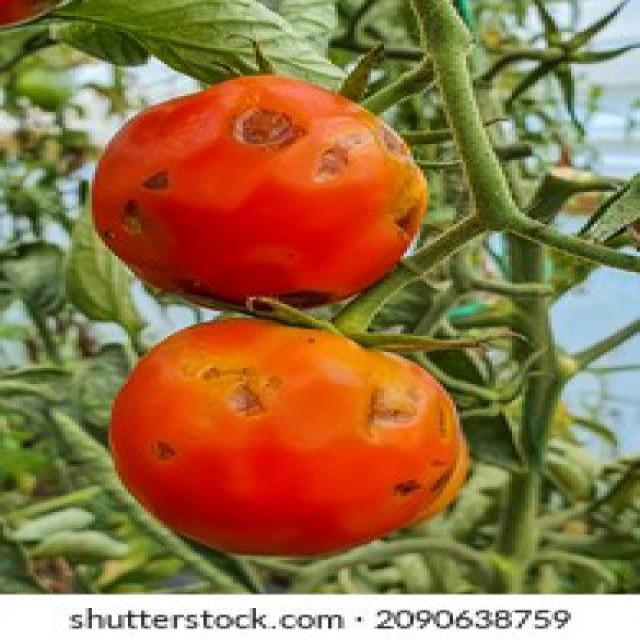Rotten_Tomato: (108, 319, 472, 564), (84, 72, 431, 311)
